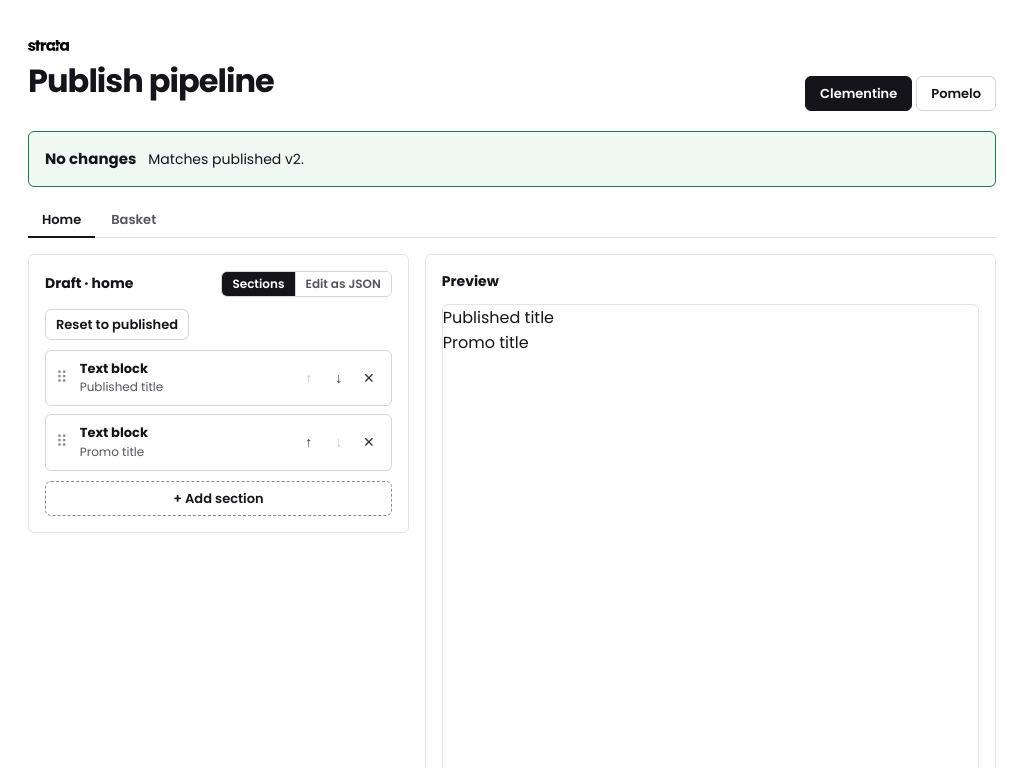
the section editor › blocks publish while a required field is empty, before asking the server
expect the text "Matches published v2." is shown: met, box [148, 150, 304, 170]
Click the button "Text block Published title" at (182, 378), box [76, 357, 289, 399]
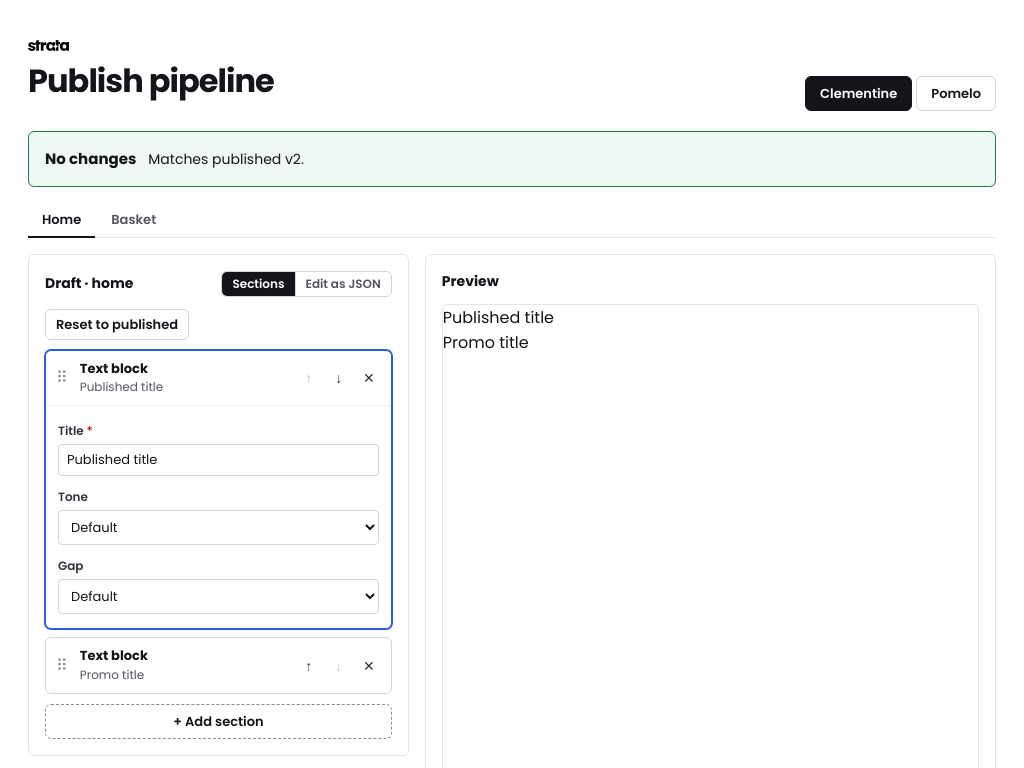
Clear the field labelled "Title *" at (218, 460), box [58, 444, 379, 476]
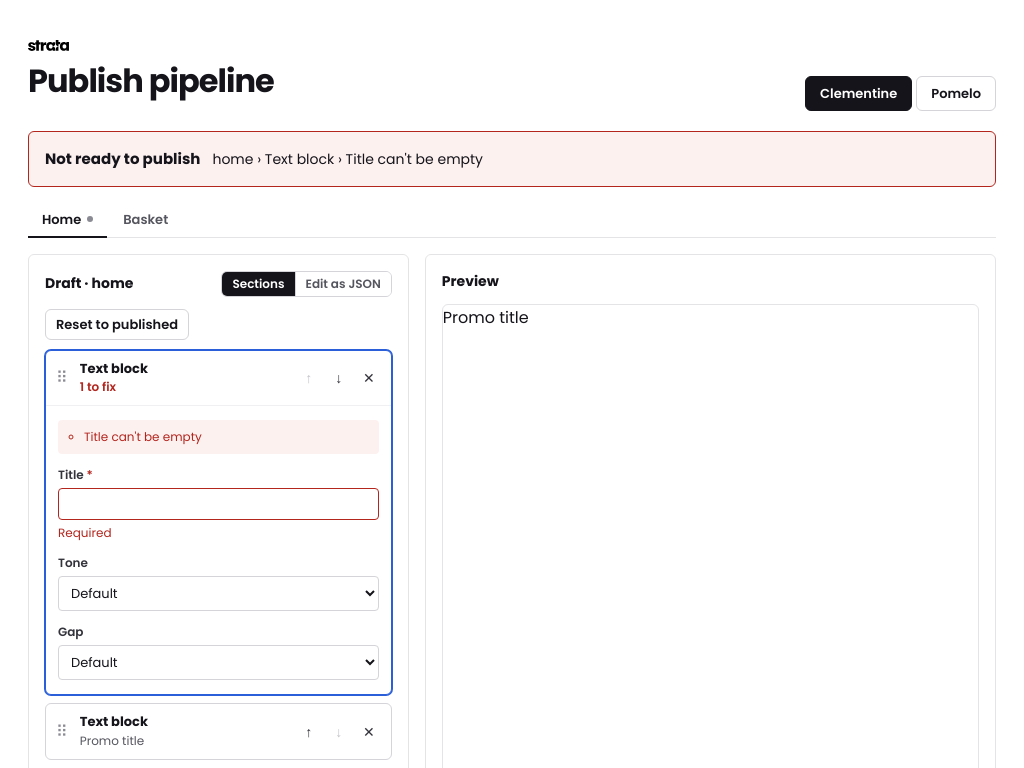
expect the text "Not ready to publish" is shown: met, box [45, 148, 200, 169]
expect the text "home › Text block › Title can't be empty" is shown: met, box [212, 150, 483, 170]
